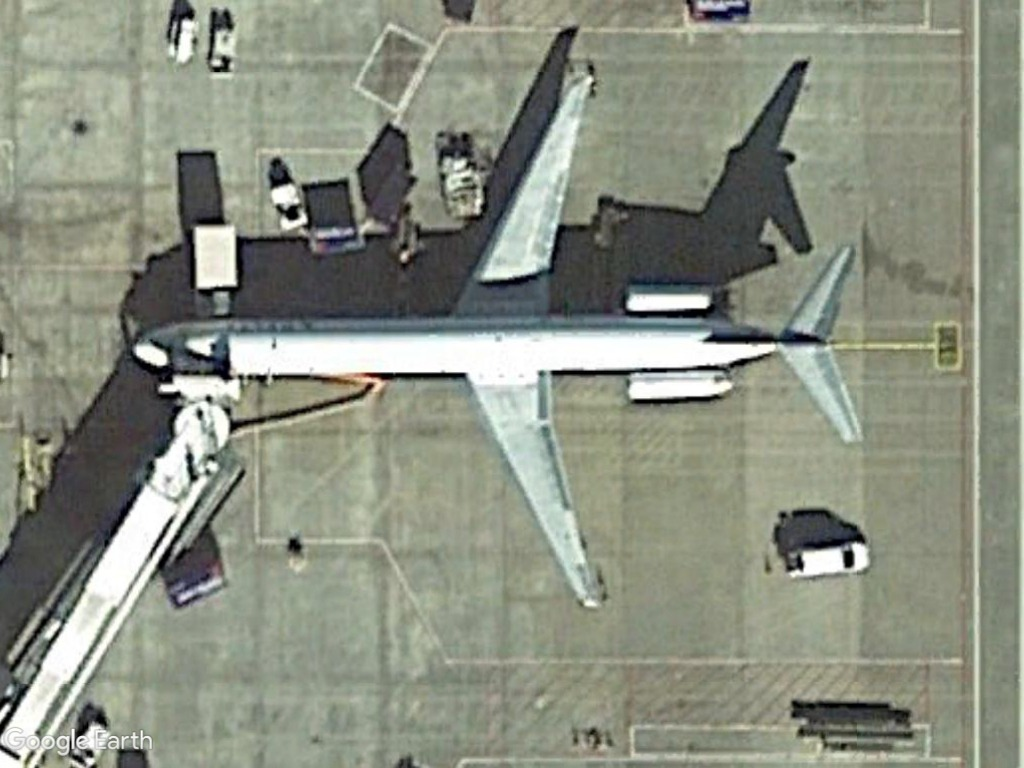chartered: (120, 62, 870, 614)
van: (781, 539, 876, 584)
